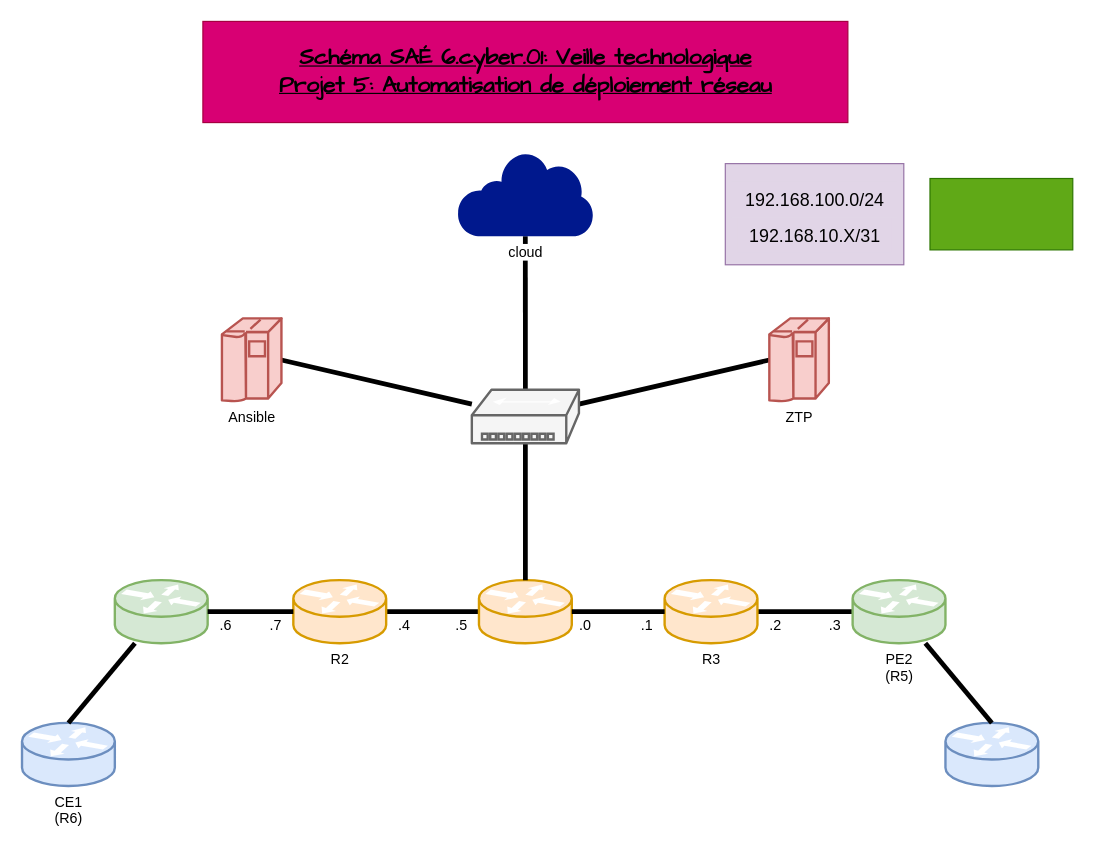
Image size: 1094x848. Some labels were removed from this diagram. Here are the shapes that lost their labels. From the top down, the box of each, then its label:
(929, 177, 1073, 250): loopback: 192.168.0.X/32
(470, 388, 580, 444): hub
(113, 578, 208, 644): PE1 (R4)
(477, 578, 572, 644): R1
(944, 721, 1039, 787): CE2 (R7)
